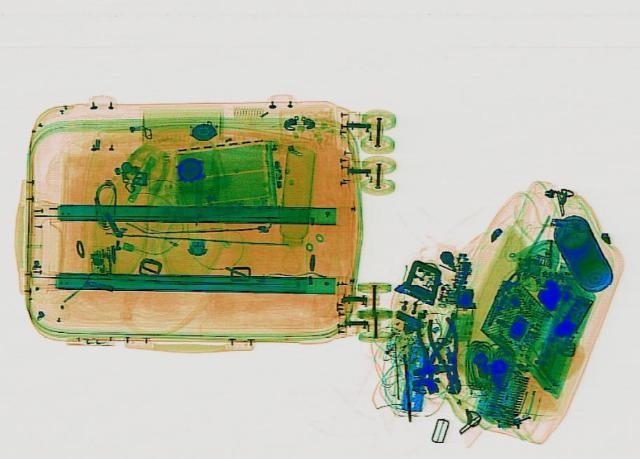Pliers: (419, 315, 473, 393), (406, 313, 456, 392)
